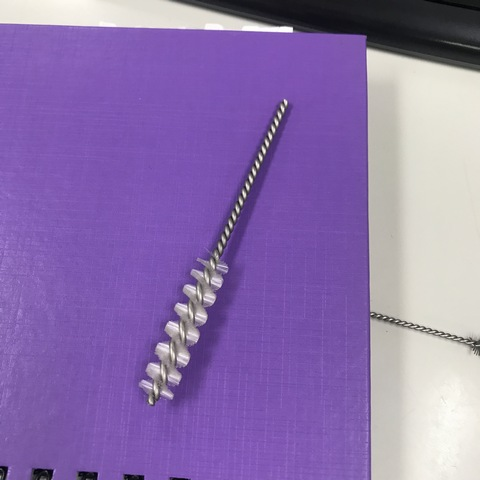Twist Brush-A: (369, 307, 480, 358)
Twist Brush-B: (136, 102, 299, 407)
